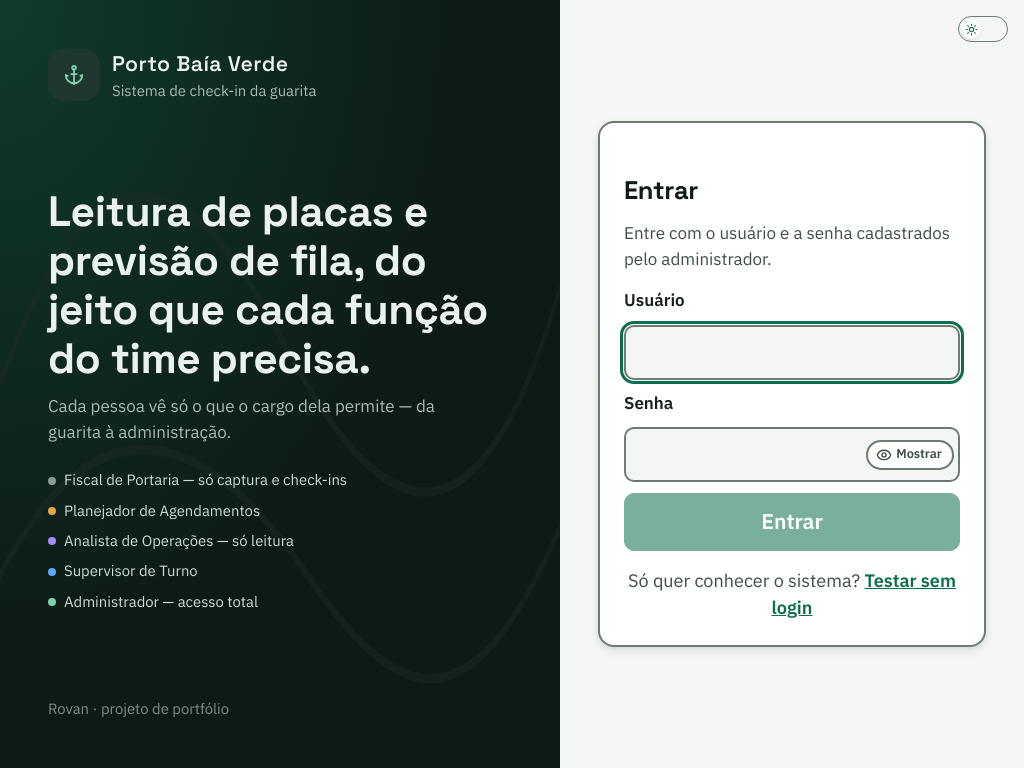
Scenario: LoginPage › usa mensagem padrão para erro desconhecido
Step 1. Type "maria" into the field labelled "Usuário" → point(792, 352), box 624,325 -> 960,380
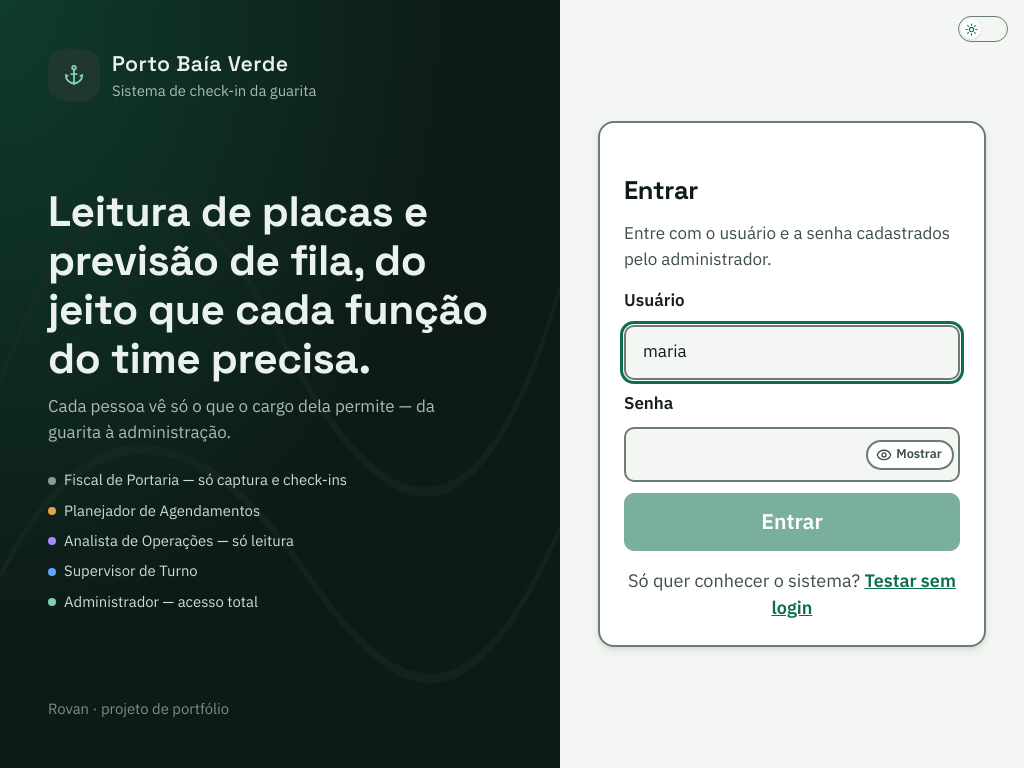
Step 2. Type "s3nha-forte" into the password field labelled "Senha" → point(792, 455), box 624,427 -> 960,482
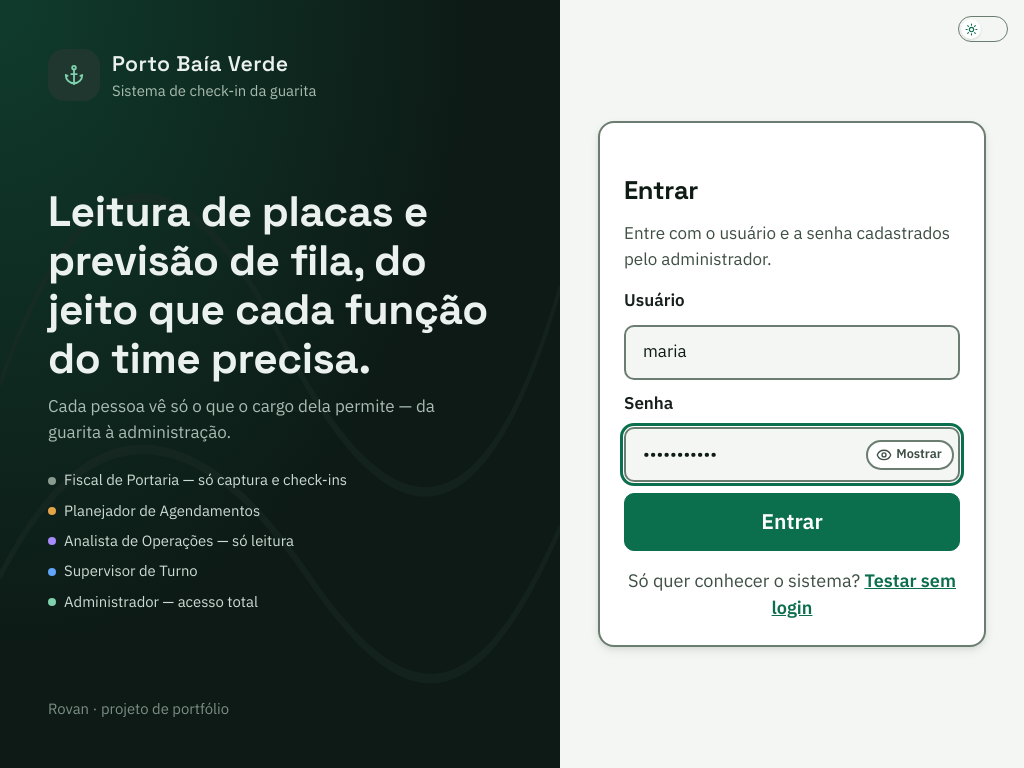
Step 3. Click the button "Entrar" → point(792, 522), box 624,493 -> 960,551
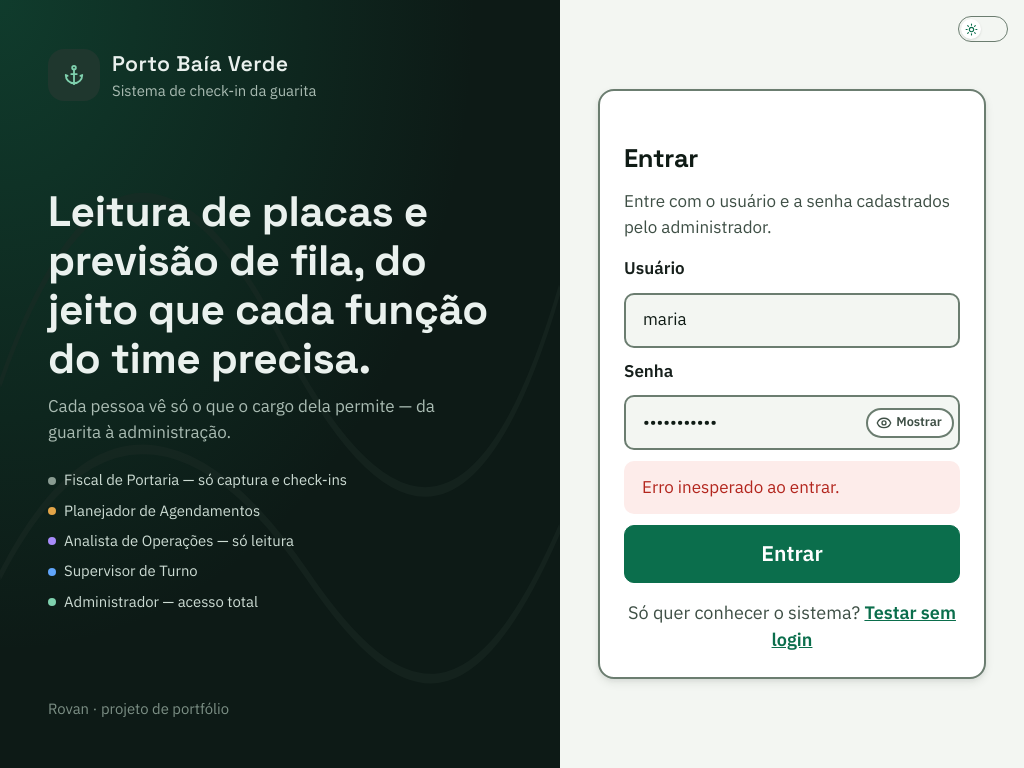
Check: the message reads "Erro inesperado ao entrar.", box 642,476 -> 840,498
